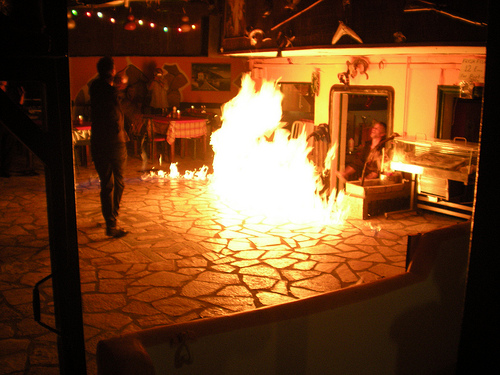fire: (198, 74, 363, 228)
